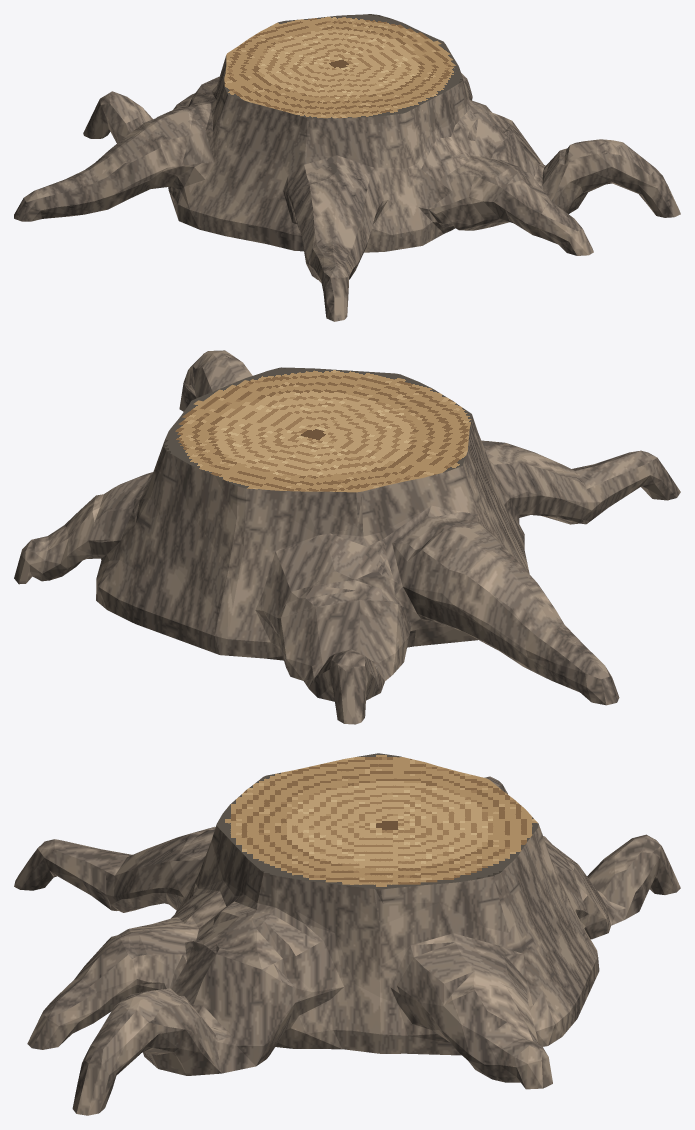
The model's file is environment_elm5_stump_v76.fbx.
The picture shows the model from 3 angles, top to bottom: view 1: azimuth 30°, elevation 25°; view 2: azimuth 150°, elevation 25°; view 3: azimuth 270°, elevation 25°; orthographic projection. The views are drawn at different scales.
Visible parts, largest first — view 1: environment_elm5_stump_v76; view 2: environment_elm5_stump_v76; view 3: environment_elm5_stump_v76.
Boxes of the visible parts, box(x1,y1,x2,y2) form: environment_elm5_stump_v76: box(14, 14, 680, 321); environment_elm5_stump_v76: box(14, 350, 680, 724); environment_elm5_stump_v76: box(14, 753, 680, 1115).
Bounding box in the file's own units: 529 × 115 × 466.
2 materials, 2 textured.
